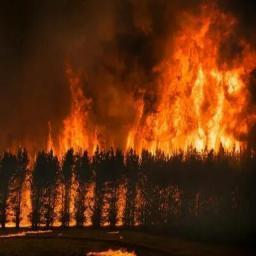Heavy smoke: (0, 0, 188, 147)
Large fire: (0, 0, 255, 238)
